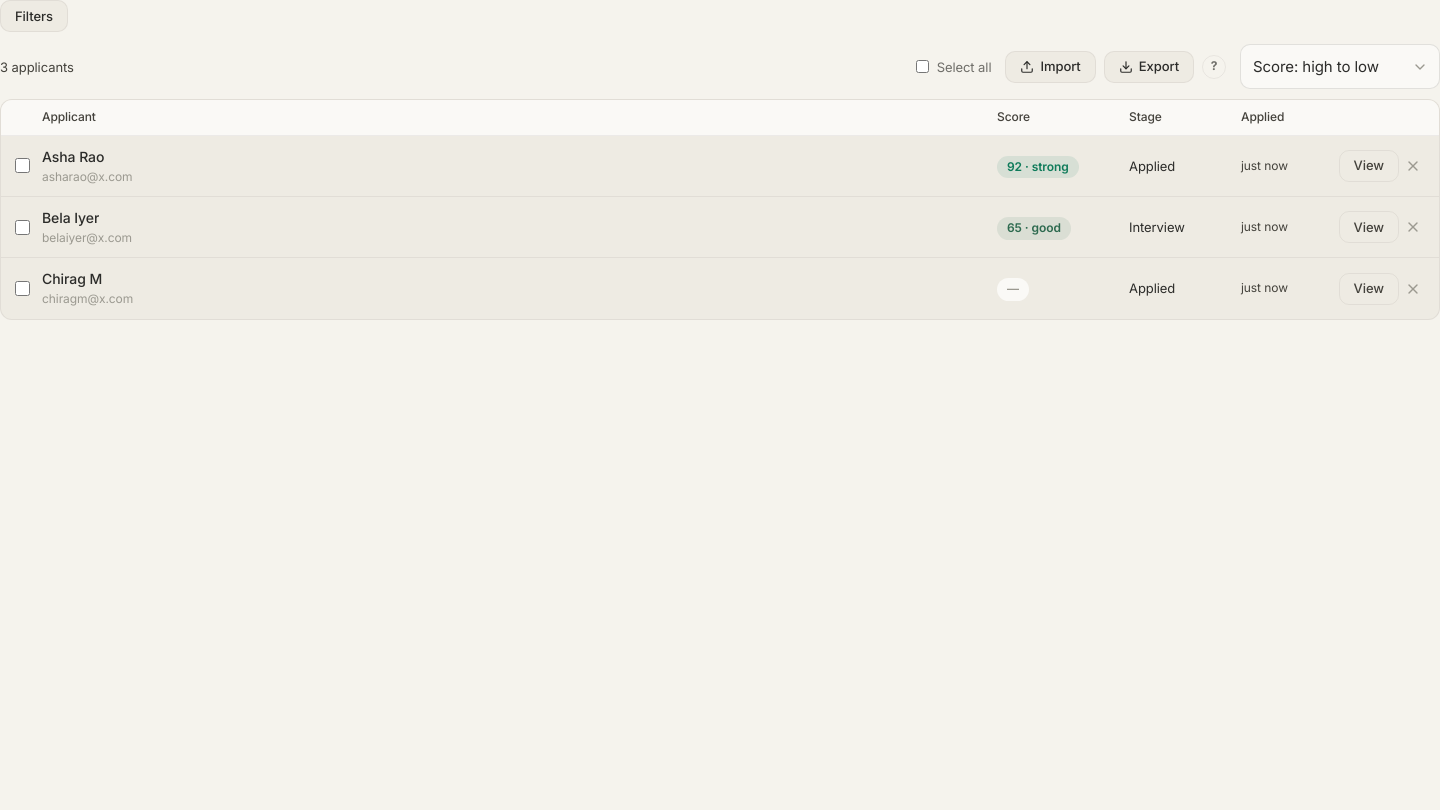
Test: RankedTab sidebar redesign › below 768px the sidebar hides and a Filters button with badge count appears
Expected: the text "Asha Rao" is shown, [42,146,104,168]
Expected: the text "Strong (80+)" is not shown
Click the button "Filters" at (34,16), box [0,0,68,32]
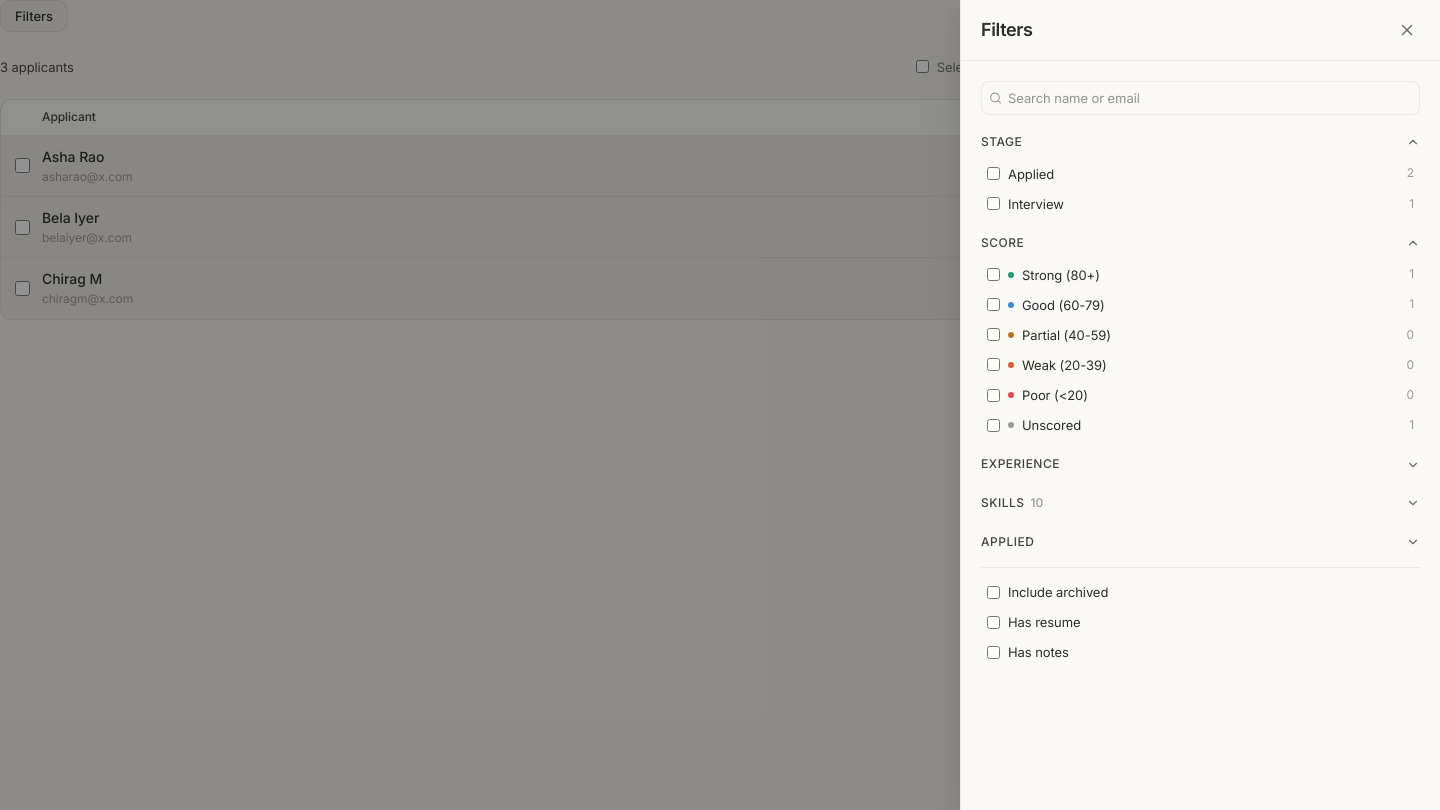
Click the text "Strong (80+)" at (1061,274), box [1022,266,1100,282]
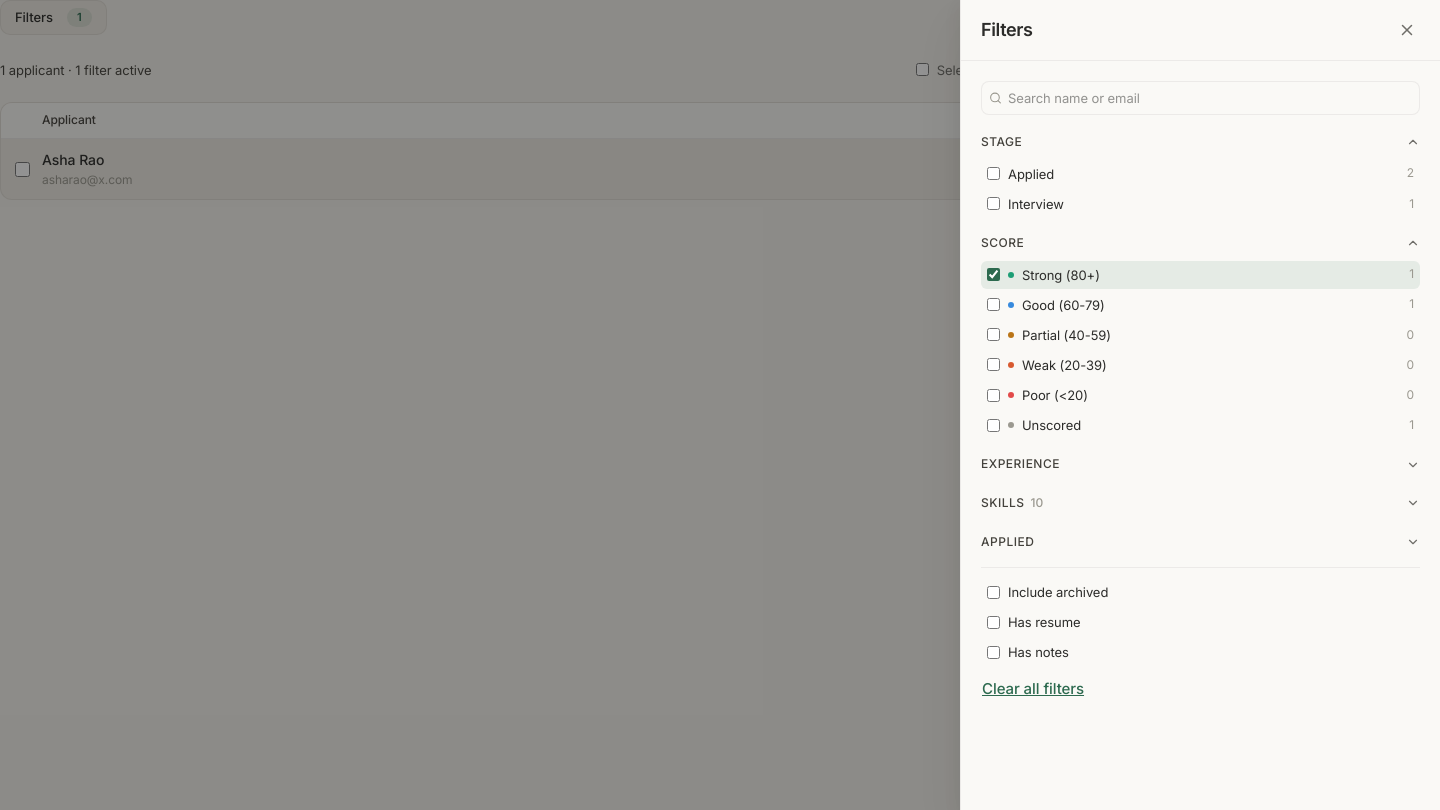
Now the button "Filters 1" is shown, box [0,0,107,35]
